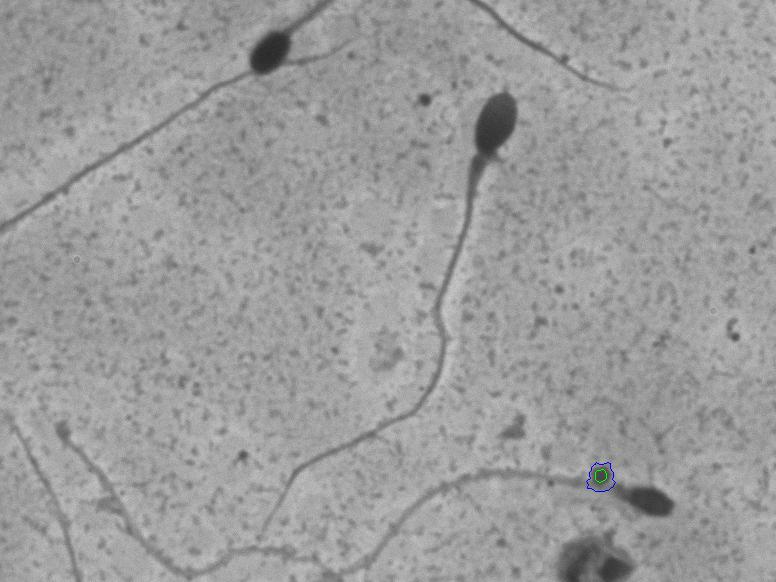Abnormal: (409, 442, 698, 555)
Normal: (240, 66, 544, 541)
